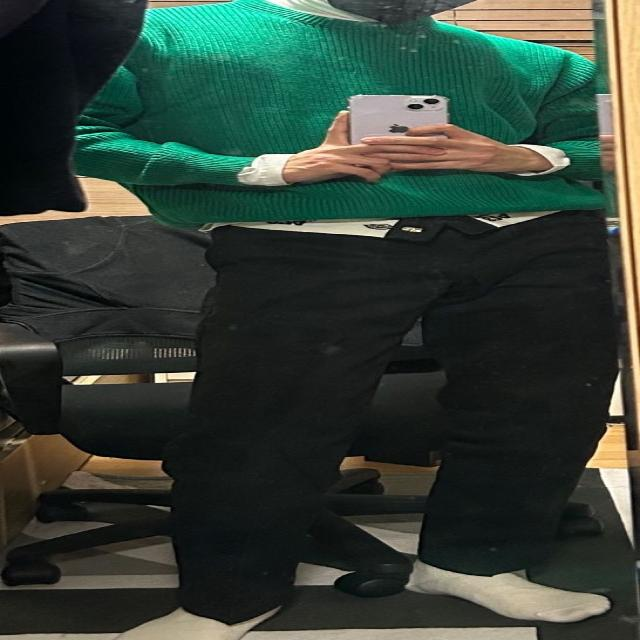slacks: (150, 216, 624, 601)
sweater: (3, 4, 602, 232)
